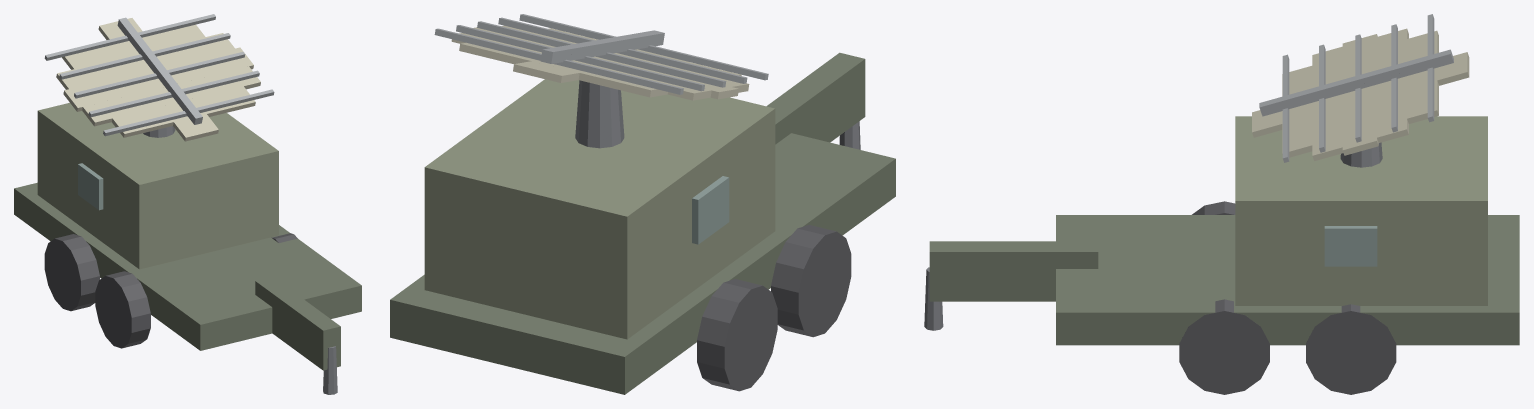
Rendered from radar-trailer.glb.
3 views of the same model, side by side, from view 1: azimuth 30°, elevation 25°; view 2: azimuth 150°, elevation 25°; view 3: azimuth 270°, elevation 25° (orthographic). The views are drawn at different scales.
Parts seen in each view (by area): view 1: radar-trailer, antenna (×2); view 2: radar-trailer, antenna (×2); view 3: radar-trailer, antenna (×2).
Boxes of the visible parts, x1,y1,x2,y2 form: radar-trailer: (14, 102, 361, 394); antenna (×2): (44, 14, 274, 141); radar-trailer: (390, 52, 895, 394); antenna (×2): (434, 14, 768, 100); radar-trailer: (924, 116, 1519, 394); antenna (×2): (1252, 14, 1469, 162).
Size of the model in its own units: 2.56 by 3.08 by 5.65.
